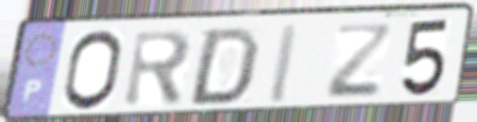5: (399, 17, 451, 99)
D: (183, 25, 263, 108)
I: (263, 22, 304, 107)
O: (59, 28, 126, 114)
R: (121, 27, 196, 111)
Z: (323, 23, 396, 101)
